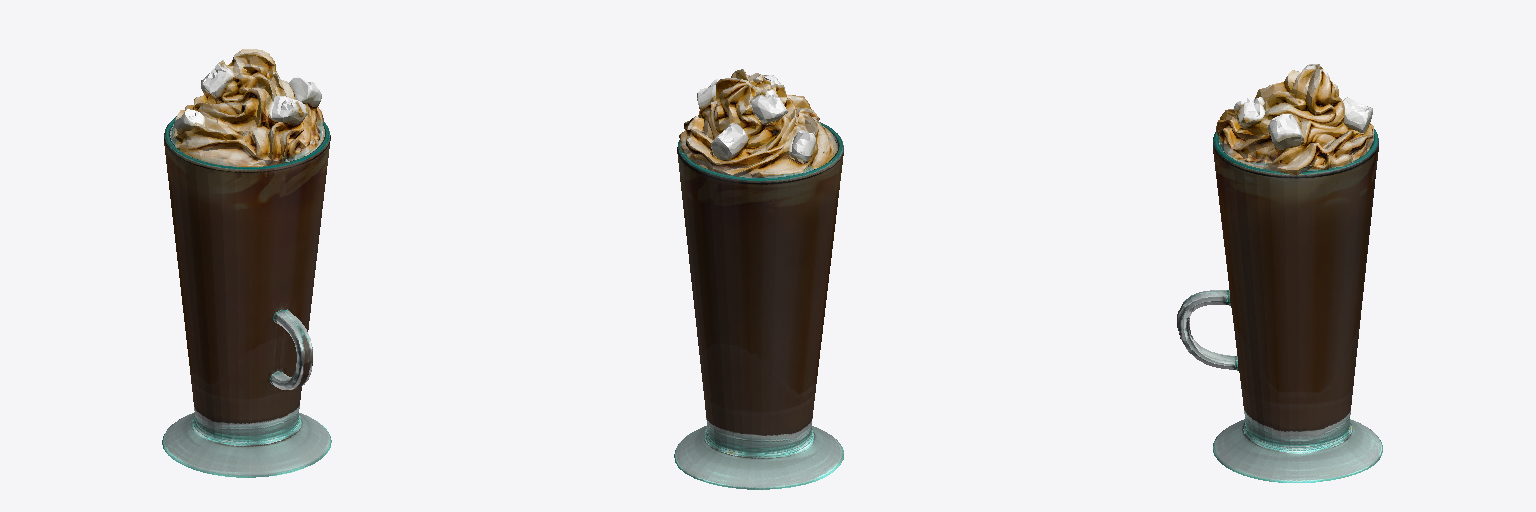
3 views of the same model, side by side, from view 1: azimuth 30°, elevation 25°; view 2: azimuth 150°, elevation 25°; view 3: azimuth 270°, elevation 25° (orthographic).
Parts seen in each view (by area): view 1: CajaR:CajaR:pasted__polySurface2692; view 2: CajaR:CajaR:pasted__polySurface2692; view 3: CajaR:CajaR:pasted__polySurface2692.
Boxes of the visible parts, <box> form: CajaR:CajaR:pasted__polySurface2692: <box>162,49,331,477</box>; CajaR:CajaR:pasted__polySurface2692: <box>674,69,843,489</box>; CajaR:CajaR:pasted__polySurface2692: <box>1177,64,1382,482</box>.
Bounding box in the file's own units: 0.1684 × 0.4201 × 0.2037.
1 materials, 1 textured.